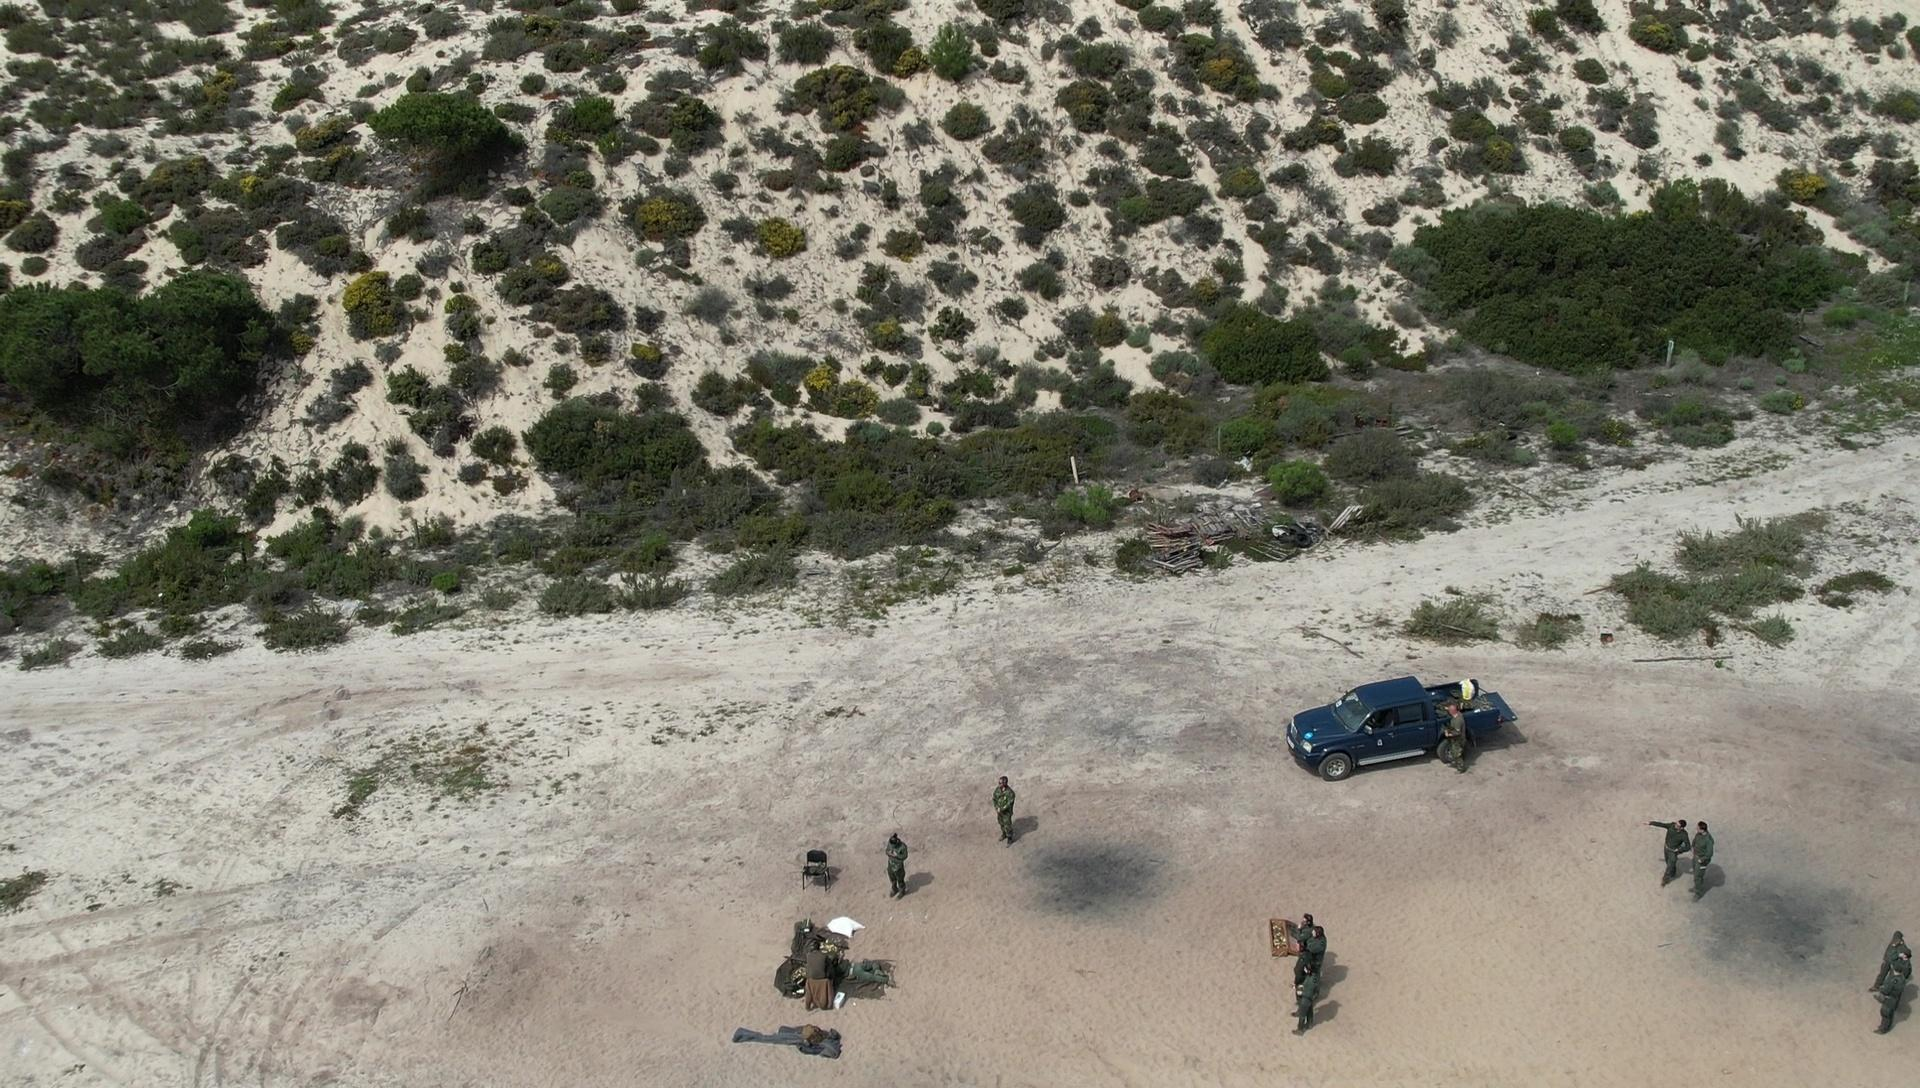Soldier: (985, 766, 1031, 866), (825, 946, 901, 994), (1436, 698, 1480, 779), (1687, 822, 1724, 907), (878, 831, 919, 903), (800, 939, 840, 1013), (1660, 808, 1693, 894), (1880, 948, 1912, 1029), (1296, 950, 1324, 1031), (1295, 922, 1331, 979), (1884, 926, 1917, 961)
